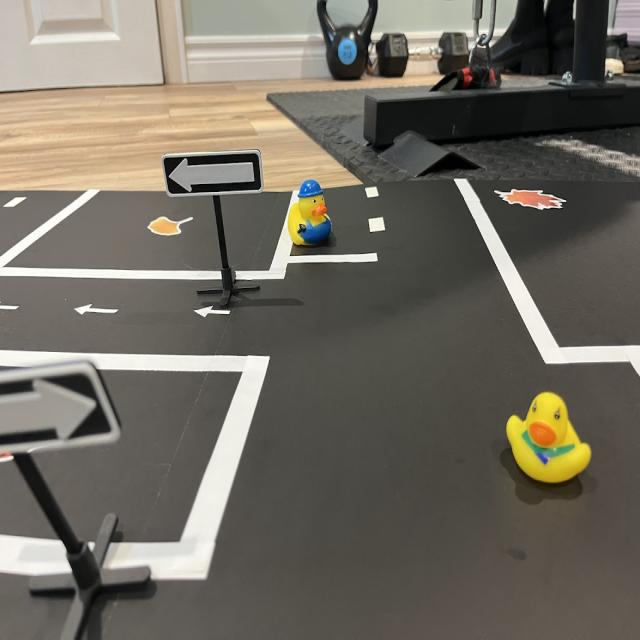duck_regular: (503, 389, 595, 490)
duck_specialty: (286, 179, 333, 252)
road_oneway: (74, 298, 122, 324), (189, 303, 236, 324)
sign_oneway_left: (163, 153, 263, 196)
sign_oneway_right: (1, 364, 124, 452)
